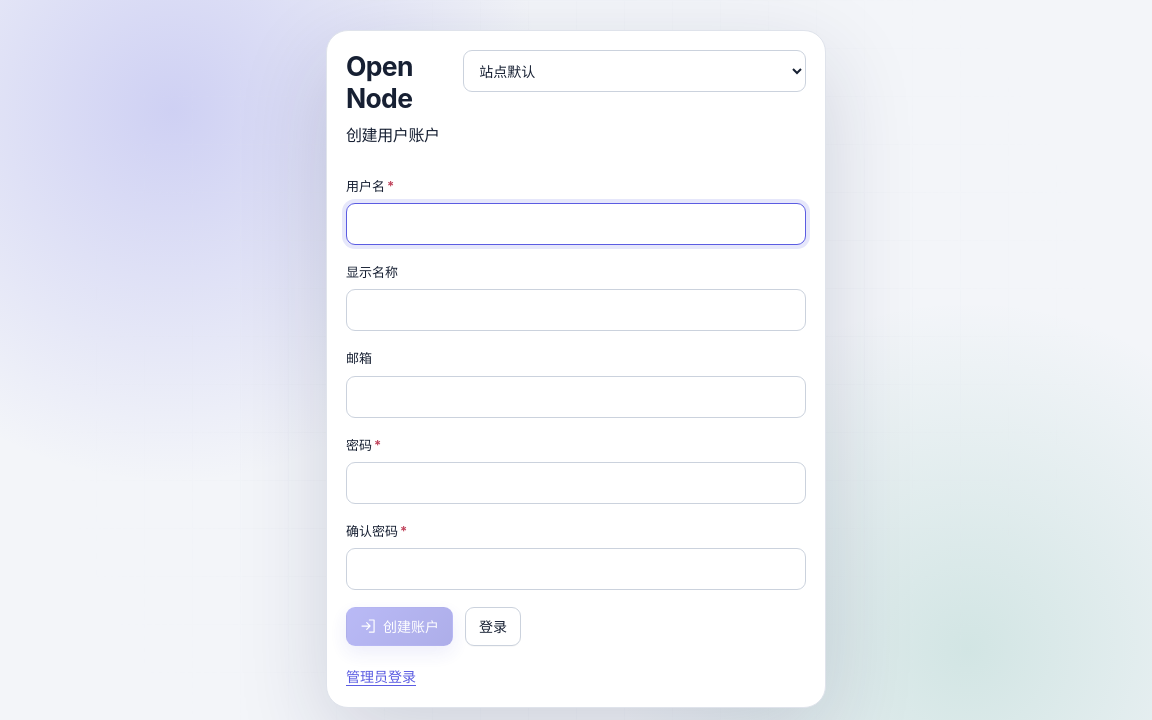
Scenario: Chinese subscriber portal › preserves invitation data and distinguishes a created account from a failed automatic login
Expected: the heading "创建用户账户" is shown, [346, 126, 447, 145]
Type " newuser " into the field labelled "用户名". click: (576, 224)
box: [346, 203, 806, 245]
Type " Original Name " into the field labelled "显示名称". click: (576, 310)
box: [346, 290, 806, 332]
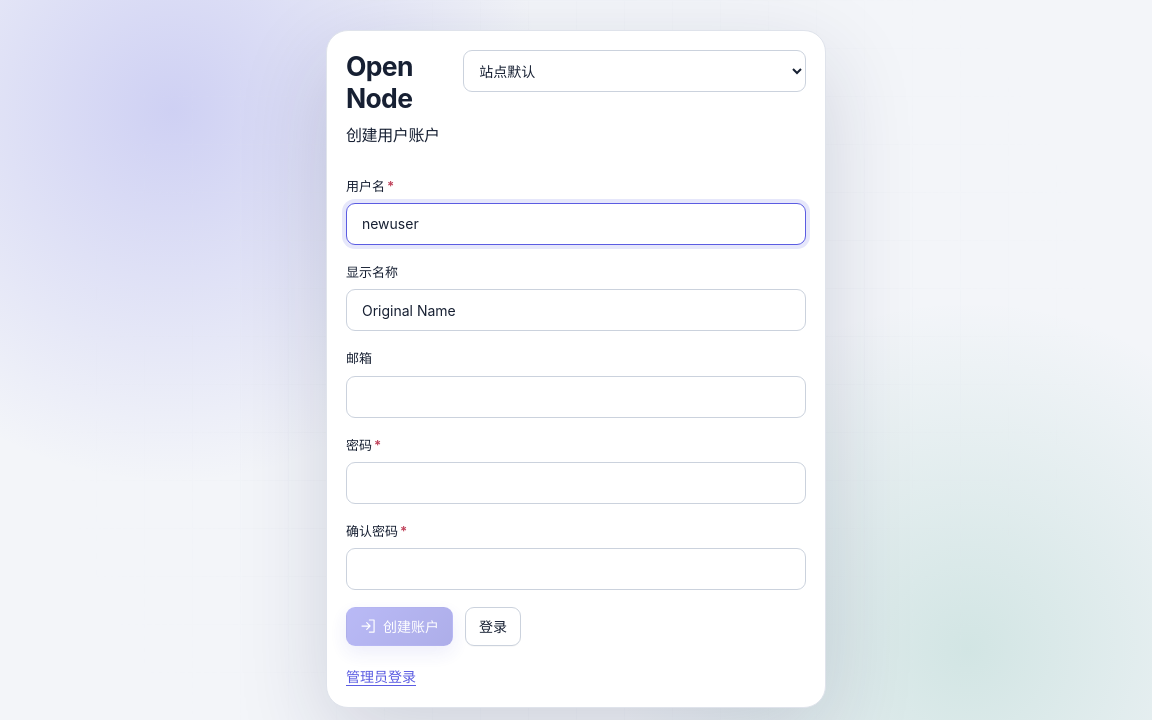
Type " new@example.test " into the field labelled "邮箱". click: (576, 397)
box: [346, 376, 806, 418]
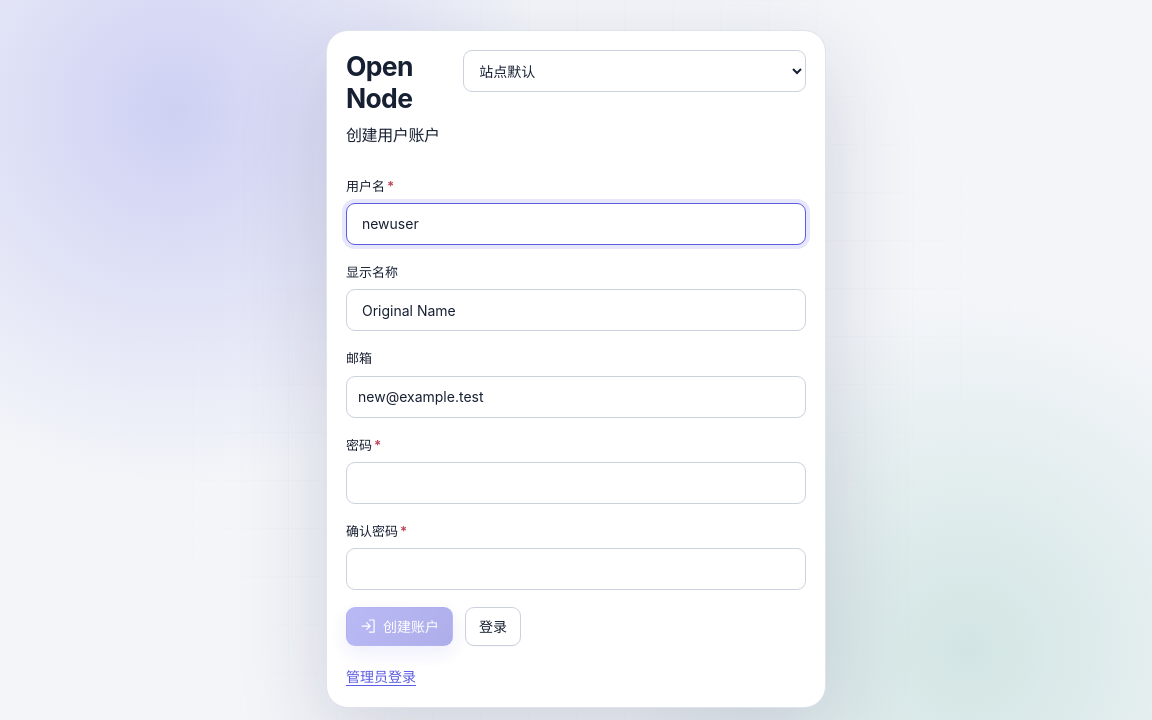
Type "new-private-password" into the password field labelled "密码". click: (576, 483)
box: [346, 462, 806, 504]
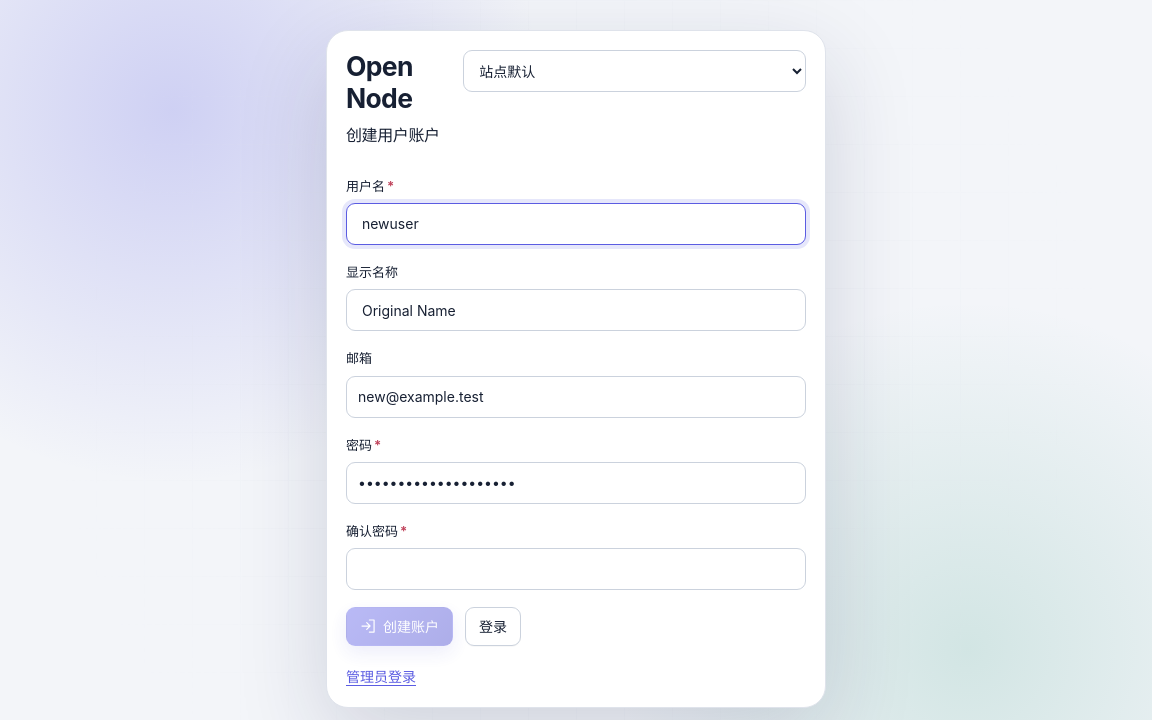
Type "different-password" into the password field labelled "确认密码". click: (576, 569)
box: [346, 548, 806, 590]
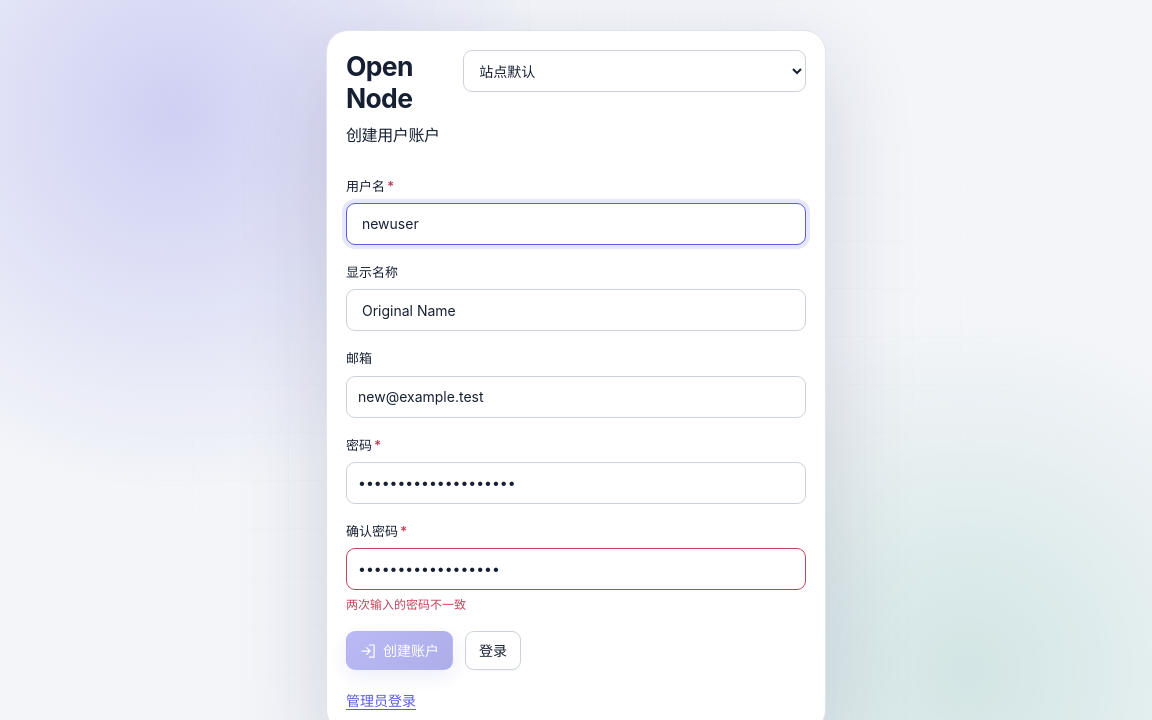
Expected: the button "创建账户" is disabled, [346, 632, 453, 670]
Type "new-private-password" into the password field labelled "确认密码". click: (576, 569)
box: [346, 548, 806, 590]
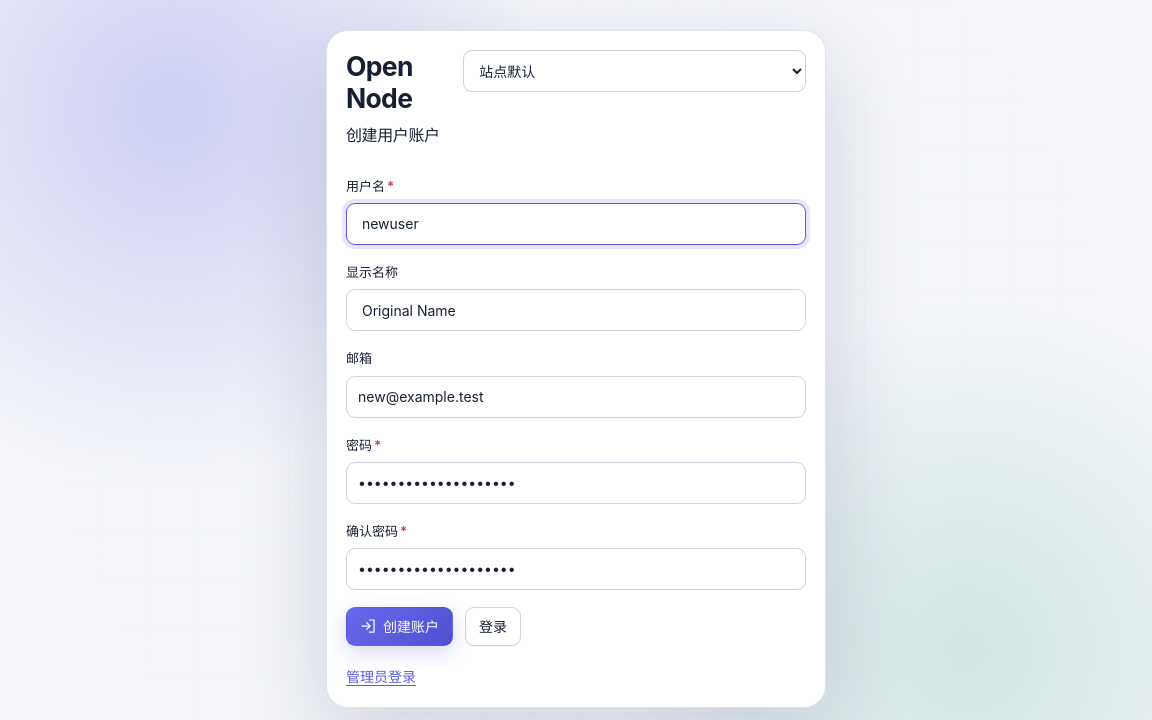
Submit the form named "密码", box [346, 176, 806, 646]
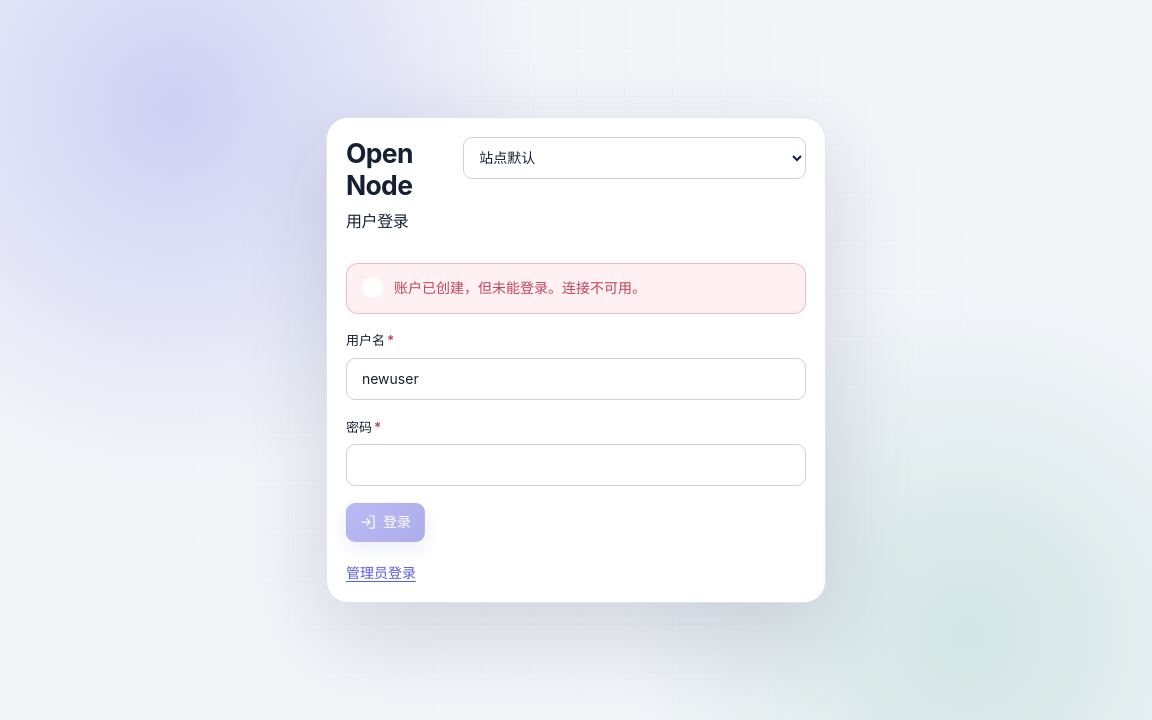
Result: the message shows "账户已创建，但未能登录。" at [394, 279, 646, 296]
Result: the password field labelled "密码" is empty at [346, 444, 806, 486]
